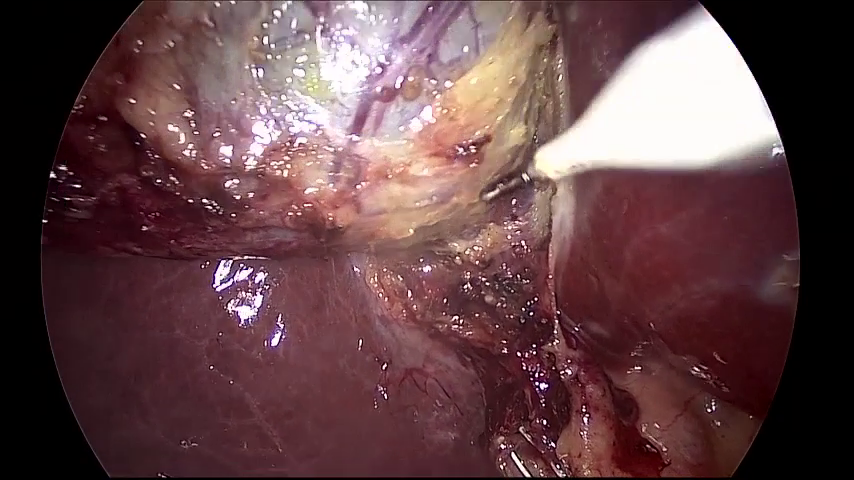lhook: (483, 4, 784, 199)
